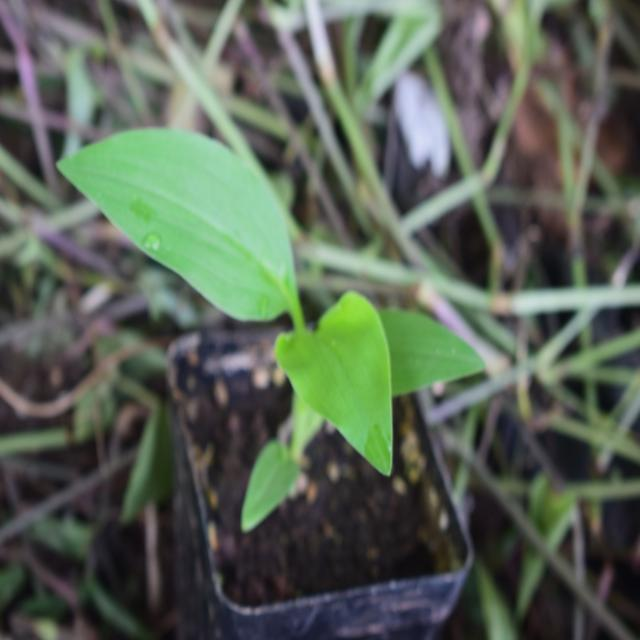Common Dayflower: (65, 120, 459, 484)
